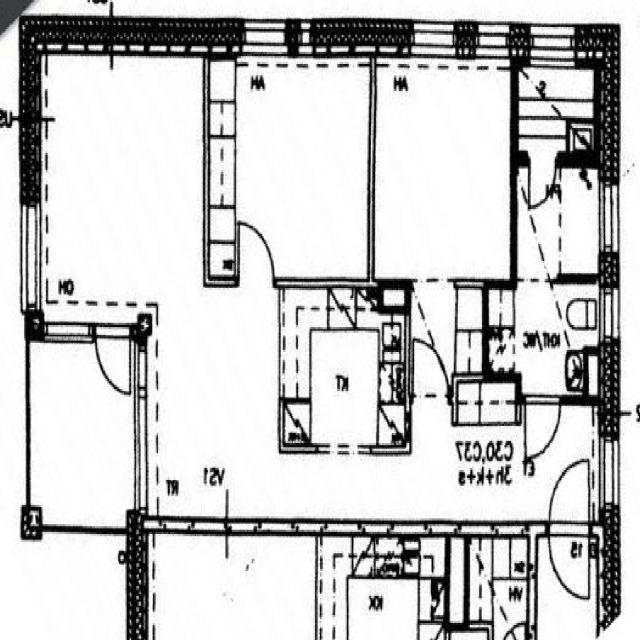door: (549, 521, 590, 598), (549, 457, 590, 534), (96, 322, 131, 395), (238, 220, 275, 288), (525, 395, 561, 460), (413, 330, 449, 395), (529, 158, 556, 210)
